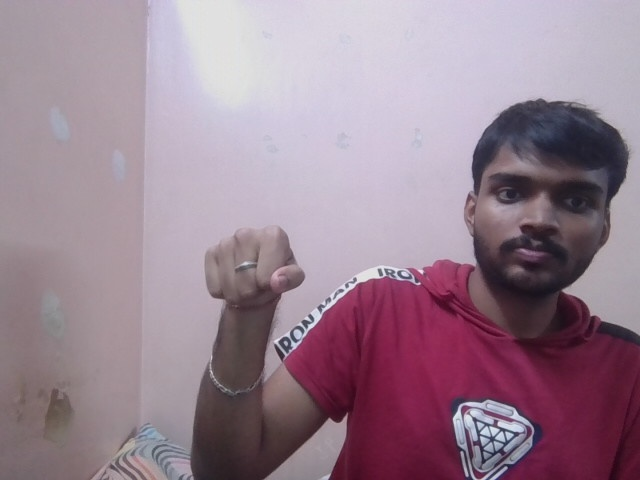Yes: (192, 225, 309, 309)
